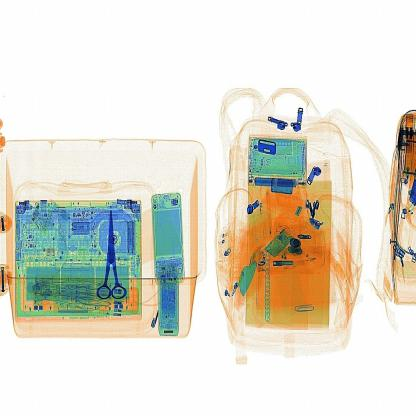gun: (85, 204, 129, 318)
